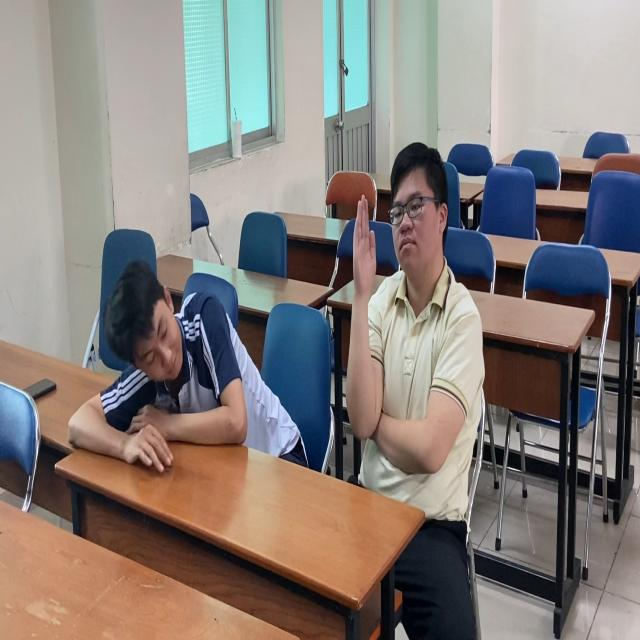raise_hand: (340, 141, 478, 543)
sleep: (60, 249, 309, 494)
